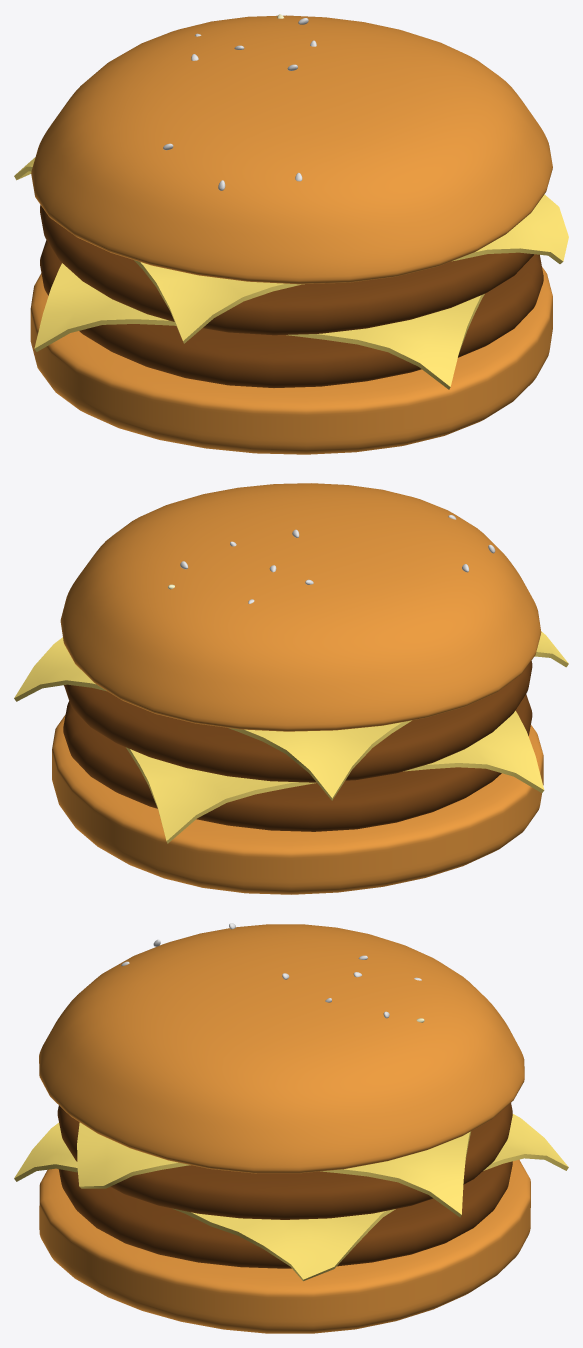
File: hamburger.glb
3 views of the same model, one above another, from view 1: azimuth 30°, elevation 25°; view 2: azimuth 150°, elevation 25°; view 3: azimuth 270°, elevation 25° (orthographic). The views are drawn at different scales.
Visible parts, largest first — view 1: Cube.003, Cube, Cube.002, Cube.001, Plane, Plane.001; view 2: Cube.003, Cube, Cube.002, Cube.001, Plane, Plane.001; view 3: Cube.003, Cube, Cube.001, Cube.002, Plane, Plane.001.
Part boxes in pixels (x1,y1,x2,y2): Cube.003: (31,15,552,284); Cube: (30,267,552,454); Cube.002: (40,205,533,335); Cube.001: (40,240,543,387); Plane: (34,263,484,389); Plane.001: (14,157,568,343); Cube.003: (60,483,541,731); Cube: (52,714,543,894); Cube.002: (64,661,532,782); Cube.001: (63,694,532,831); Plane: (126,710,544,843); Plane.001: (14,631,568,800); Cube.003: (39,924,524,1173); Cube: (39,1159,530,1333); Cube.001: (58,1161,512,1268); Cube.002: (57,1103,512,1219); Plane: (14,1114,568,1281); Plane.001: (77,1122,470,1217).
Size of the model in its own units: 10.38 by 5.89 by 10.58.
